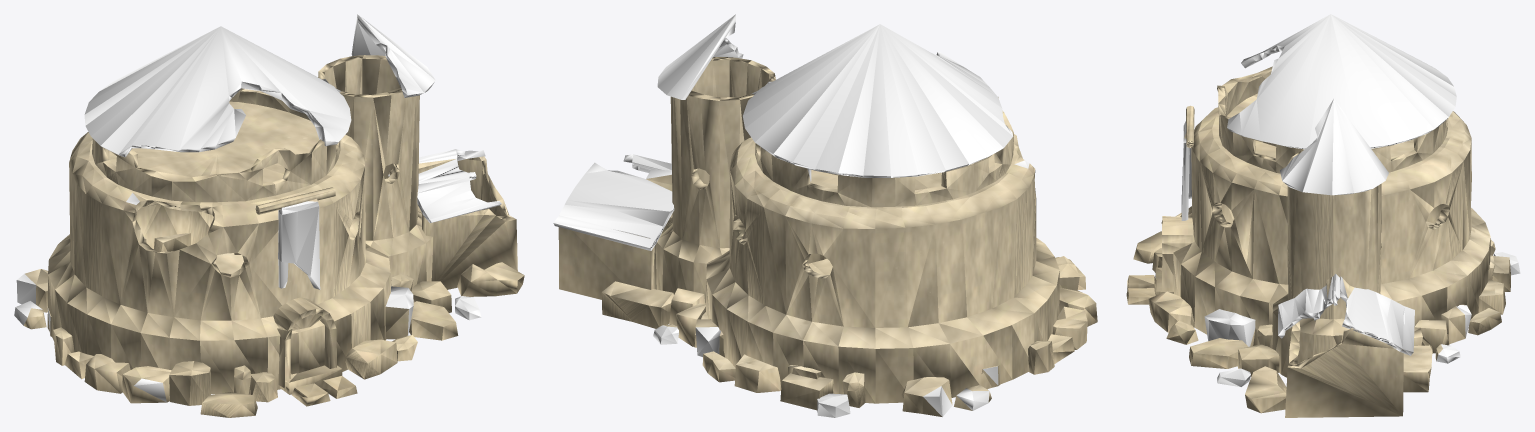
3 views of the same model, side by side, from view 1: azimuth 30°, elevation 25°; view 2: azimuth 150°, elevation 25°; view 3: azimuth 270°, elevation 25° (orthographic). The views are drawn at different scales.
Parts seen in each view (by area): view 1: castle_d2.5; view 2: castle_d2.5; view 3: castle_d2.5.
Part boxes in pixels (left/top/right/bottom): castle_d2.5: left=14, top=14, right=524, bottom=417; castle_d2.5: left=553, top=14, right=1097, bottom=417; castle_d2.5: left=1126, top=14, right=1520, bottom=417.
Size of the model in its own units: 2.9 by 1.89 by 2.41.
Materials: 2 (1 with a texture image).
